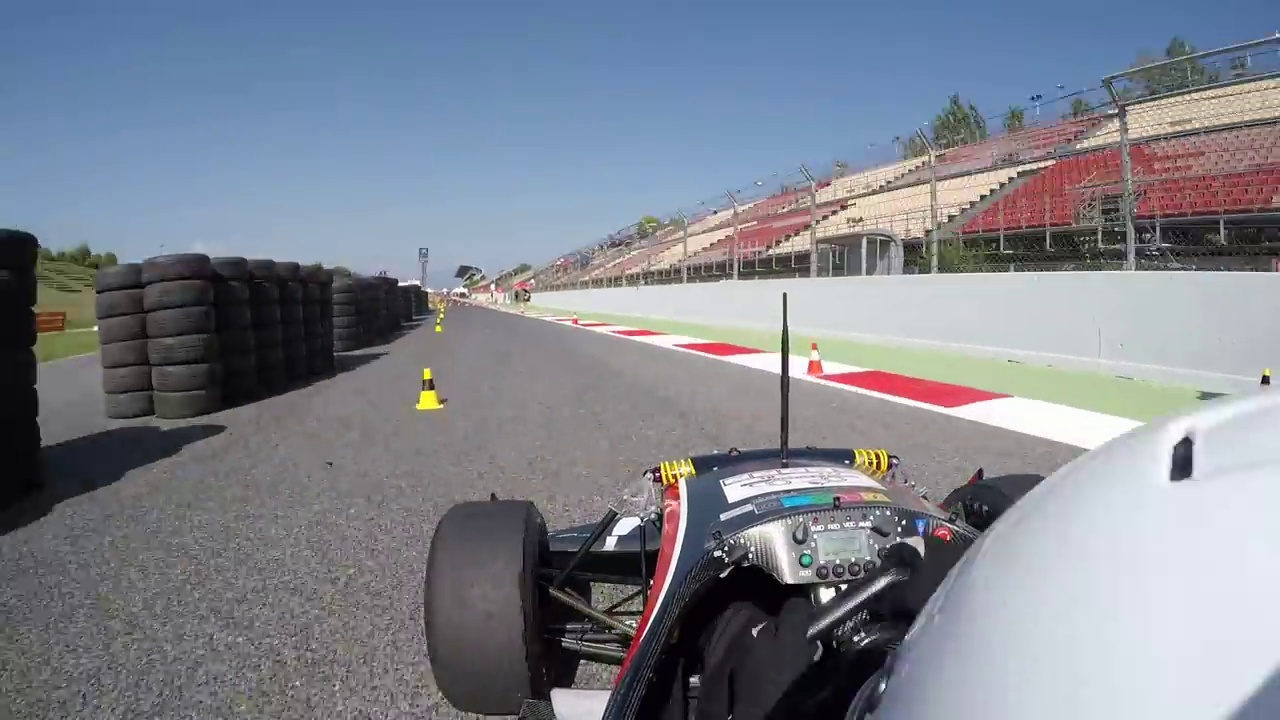Cone: (416, 366, 445, 413), (806, 341, 830, 375)
